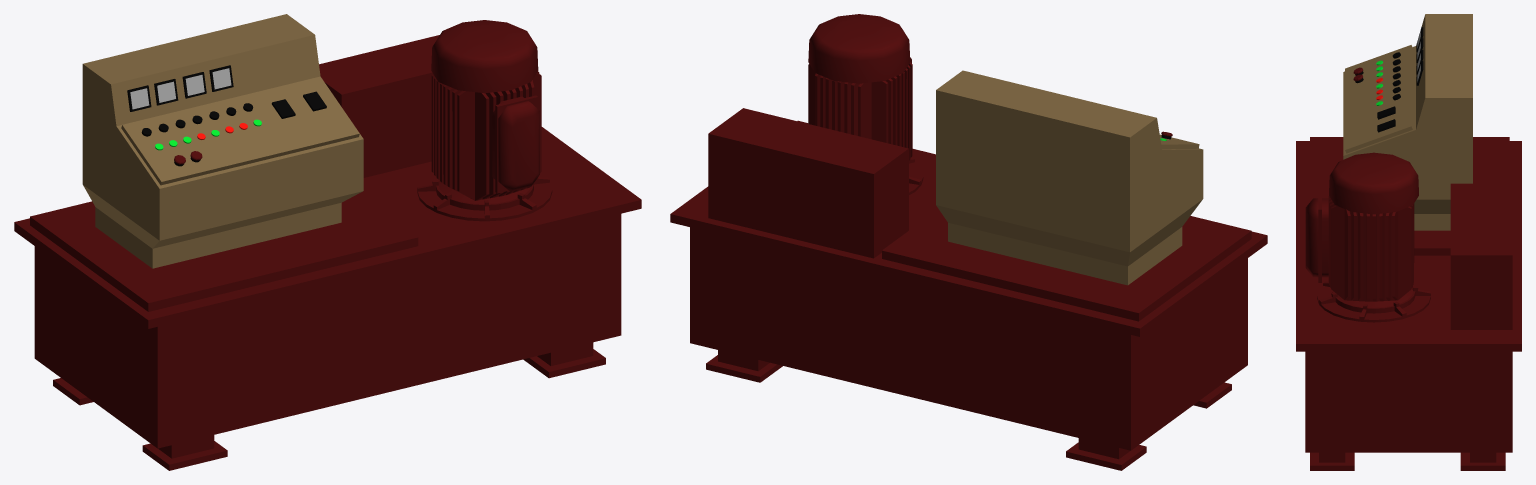
File: SM_ProdLine_control_b.FBX
The picture shows the model from 3 angles, left to right: view 1: azimuth 30°, elevation 25°; view 2: azimuth 150°, elevation 25°; view 3: azimuth 270°, elevation 25°; orthographic projection. The views are drawn at different scales.
Visible parts, largest first — view 1: SM_ProdLine_control_b_LOD0; view 2: SM_ProdLine_control_b_LOD0; view 3: SM_ProdLine_control_b_LOD0.
Part boxes in pixels (x1,y1,x2,y2): SM_ProdLine_control_b_LOD0: [14, 14, 641, 470]; SM_ProdLine_control_b_LOD0: [670, 14, 1267, 470]; SM_ProdLine_control_b_LOD0: [1296, 14, 1521, 470].
Bounding box in the file's own units: 184 × 86.33 × 119.
